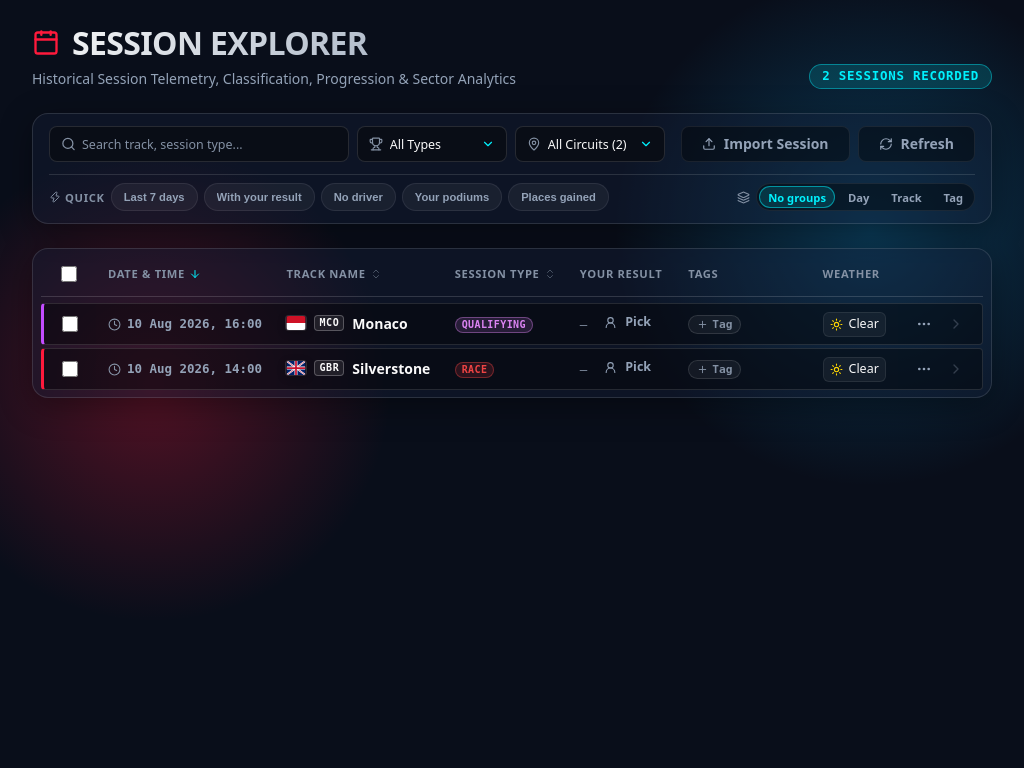
SessionHistory Component › filters sessions by search query input and supports column sorting
This screenshot has width=1024, height=768.
Note: Test sort by track name
Click the button "Track Name": coordinates (334, 274) [286, 266, 382, 283]
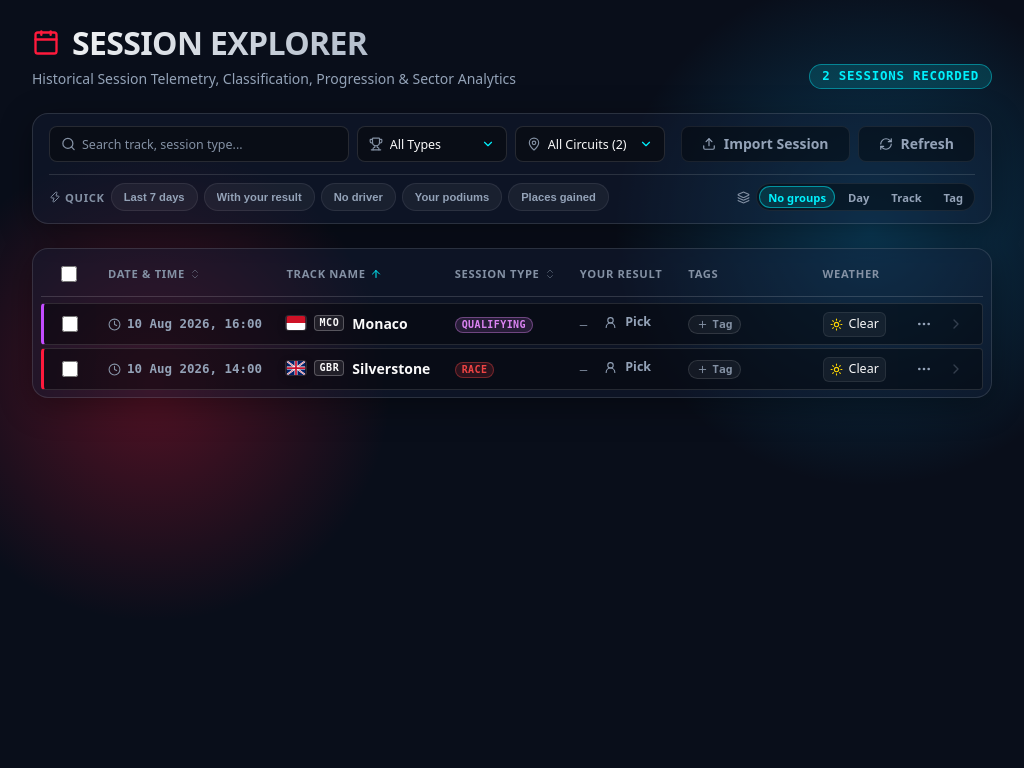
Note: Type "Monaco" in search box
In the field with placeholder "Search track, session type...": coordinates (199, 144) [49, 126, 349, 162], type "Monaco"
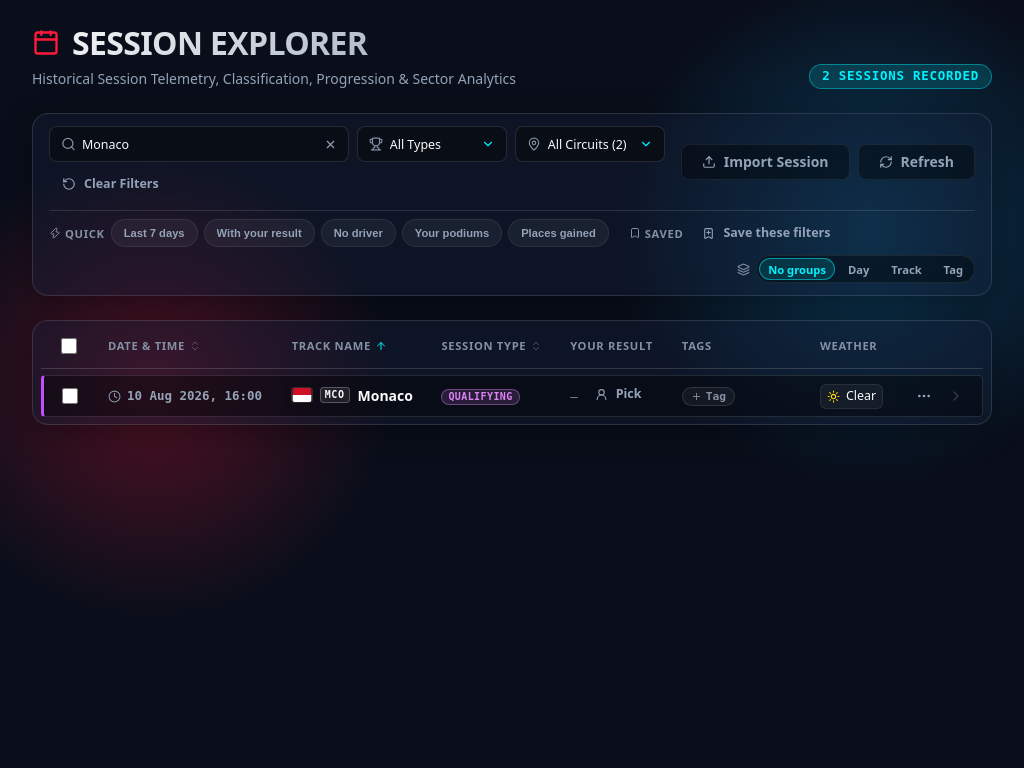
Check: the column heading "MCO Monaco" is shown, box [280, 375, 430, 417]
Check: the text "Silverstone" is gone
